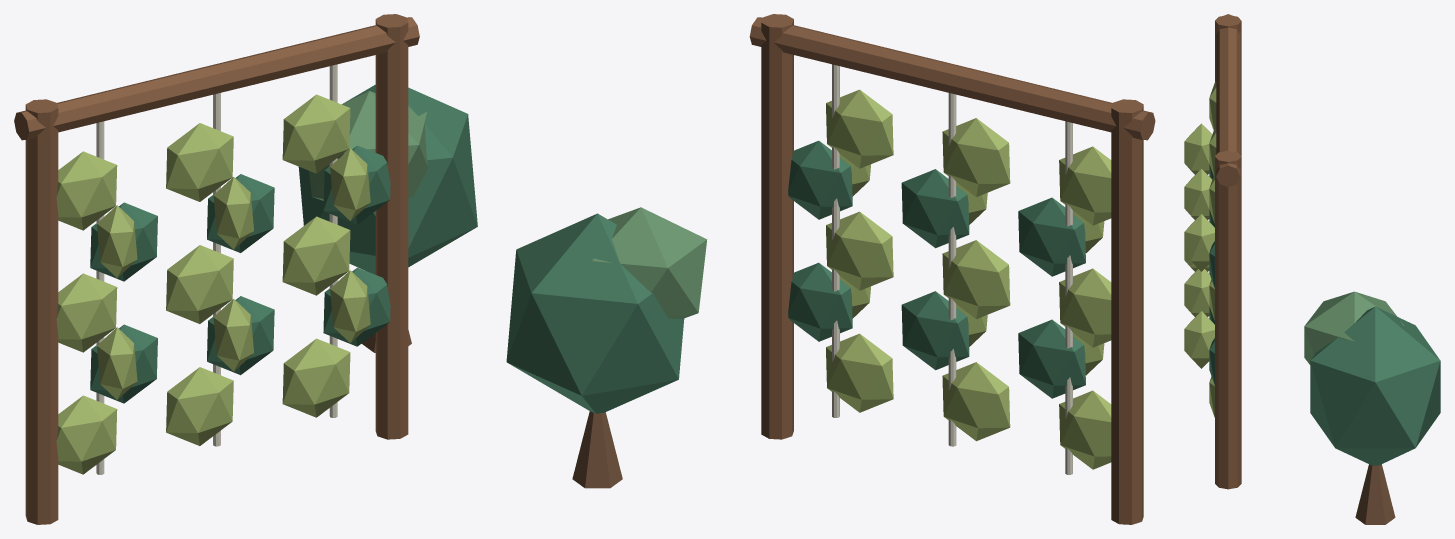
Rendered from hopGrove.glb.
The picture shows the model from 3 angles, left to right: view 1: azimuth 30°, elevation 25°; view 2: azimuth 150°, elevation 25°; view 3: azimuth 270°, elevation 25°; orthographic projection. The views are drawn at different scales.
Visible parts, largest first — view 1: Cone.052, Cone.053, Cone.054, Icosphere.063, Icosphere.062, Icosphere.056, Icosphere.059, Icosphere.052, Icosphere.049, Icosphere.055, Icosphere.042, Icosphere.048 (+17 smaller); view 2: Icosphere.063, Cone.052, Cone.053, Cone.054, Icosphere.064, Icosphere.049, Icosphere.052, Icosphere.055, Icosphere.062, Icosphere.056, Icosphere.059, Icosphere.043 (+12 smaller); view 3: Icosphere.063, Cone.053, Cone.054, Icosphere.064, Cone.058, Icosphere.058, Icosphere.061, Icosphere.047, Icosphere.054, Icosphere.051, Cone.052, Icosphere.048.
Boxes of the visible parts, left/top/right/bottom form: Cone.052: left=25, top=99, right=58, bottom=524; Cone.053: left=375, top=14, right=408, bottom=439; Cone.054: left=14, top=17, right=419, bottom=140; Icosphere.063: left=298, top=84, right=477, bottom=274; Icosphere.062: left=282, top=94, right=350, bottom=173; Icosphere.056: left=282, top=338, right=350, bottom=417; Icosphere.059: left=282, top=216, right=350, bottom=295; Icosphere.052: left=166, top=245, right=233, bottom=323; Icosphere.049: left=166, top=367, right=233, bottom=445; Icosphere.055: left=166, top=123, right=233, bottom=201; Icosphere.042: left=56, top=395, right=117, bottom=474; Icosphere.048: left=56, top=151, right=117, bottom=230; Icosphere.063: left=506, top=213, right=684, bottom=413; Cone.052: left=1111, top=99, right=1143, bottom=524; Cone.053: left=761, top=14, right=793, bottom=439; Cone.054: left=749, top=17, right=1155, bottom=140; Icosphere.064: left=591, top=207, right=707, bottom=318; Icosphere.049: left=942, top=362, right=1010, bottom=441; Icosphere.052: left=942, top=240, right=1010, bottom=318; Icosphere.055: left=942, top=118, right=1010, bottom=196; Icosphere.062: left=826, top=89, right=893, bottom=168; Icosphere.056: left=826, top=333, right=893, bottom=412; Icosphere.059: left=826, top=211, right=893, bottom=290; Icosphere.043: left=1018, top=319, right=1085, bottom=398; Icosphere.063: left=1310, top=306, right=1440, bottom=465; Cone.053: left=1215, top=150, right=1241, bottom=489; Cone.054: left=1216, top=14, right=1240, bottom=187; Icosphere.064: left=1304, top=291, right=1404, bottom=364; Cone.058: left=1355, top=464, right=1395, bottom=524; Icosphere.058: left=1184, top=311, right=1214, bottom=368; Icosphere.061: left=1184, top=214, right=1214, bottom=271; Icosphere.047: left=1184, top=123, right=1212, bottom=174; Icosphere.054: left=1184, top=169, right=1212, bottom=219; Icosphere.051: left=1184, top=269, right=1211, bottom=316; Cone.052: left=1215, top=15, right=1241, bottom=155; Icosphere.048: left=1209, top=82, right=1216, bottom=130.
Size of the model in its own units: 1.85 by 1.35 by 0.9571.
